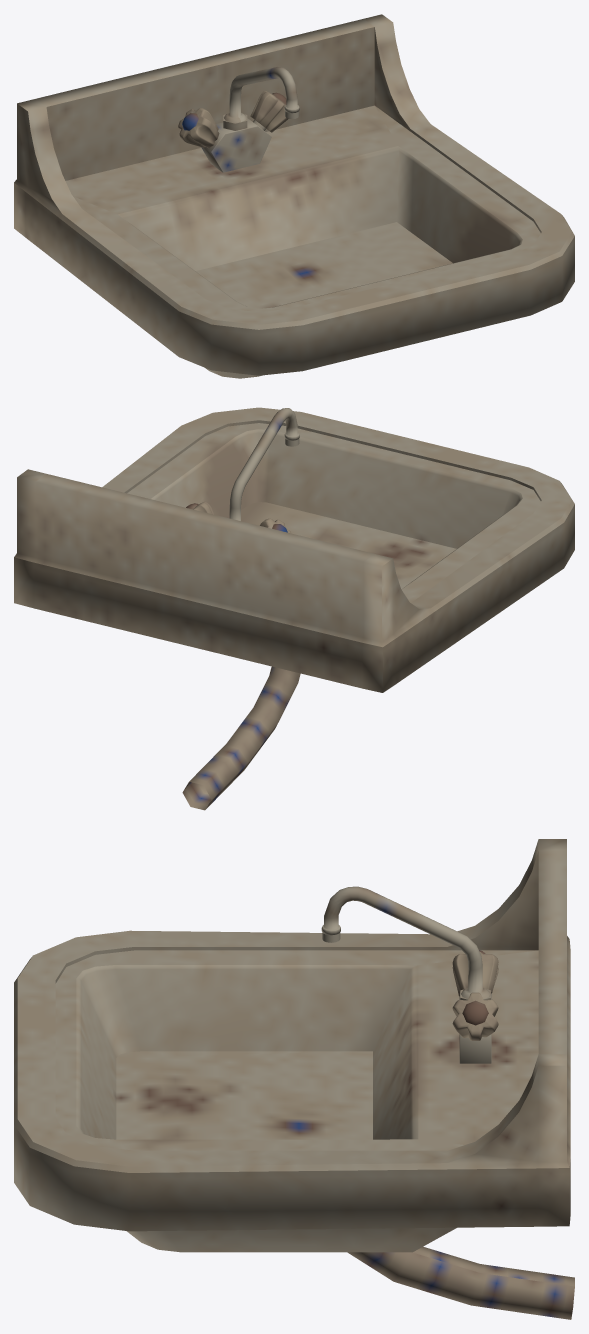
Rendered from sink.fbx.
3 renders of one model, top to bottom at view 1: azimuth 30°, elevation 25°; view 2: azimuth 150°, elevation 25°; view 3: azimuth 270°, elevation 25°, orthographic. The views are drawn at different scales.
Visible parts, largest first — view 1: Sink; view 2: Sink; view 3: Sink.
Boxes of the visible parts, x1,y1,x2,y2 form: Sink: [14, 14, 574, 378]; Sink: [14, 407, 574, 810]; Sink: [14, 839, 574, 1319].
Size of the model in its own units: 86.1 by 71.9 by 85.39.
1 material, 1 textured.
